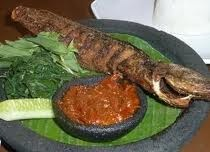pecel_lele: (91, 29, 209, 105)
